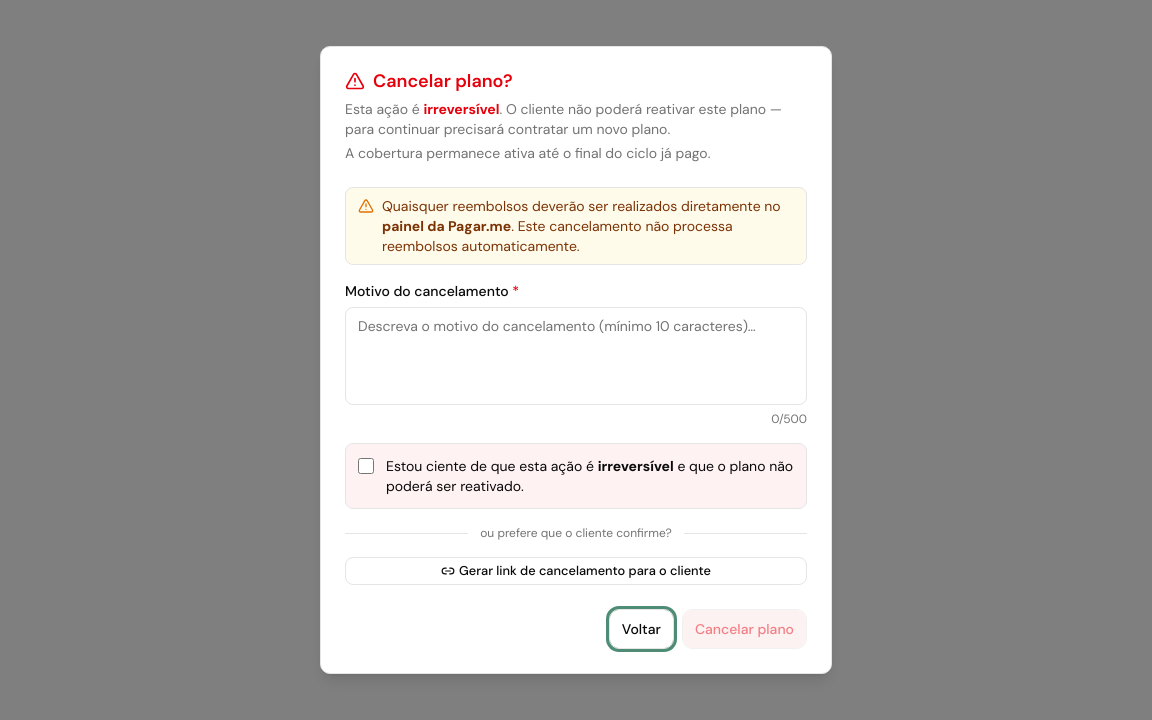
Test: CancelPlanDialog — confirm button gating › should enable confirm button when reason >= 10 chars AND checkbox is checked
In the text box: coordinates (576, 356) [345,307,807,405], type "Motivo com mais de dez caracteres."
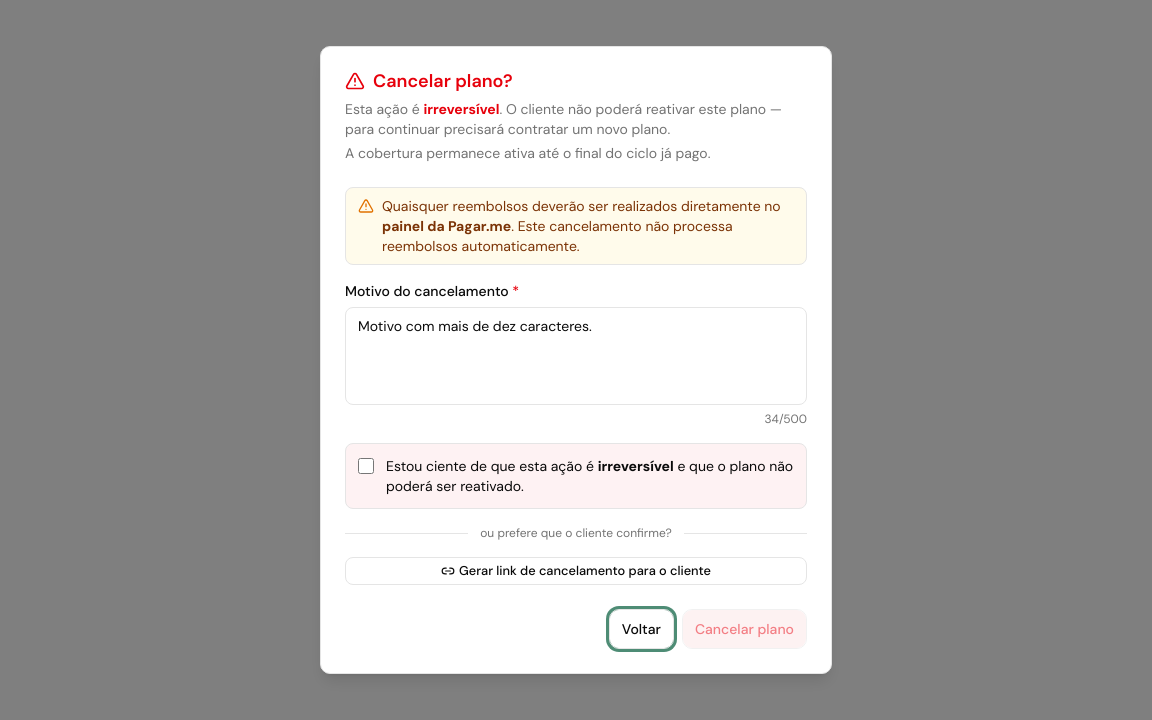
Click the checkbox: coordinates (366, 466) [358,458,374,474]
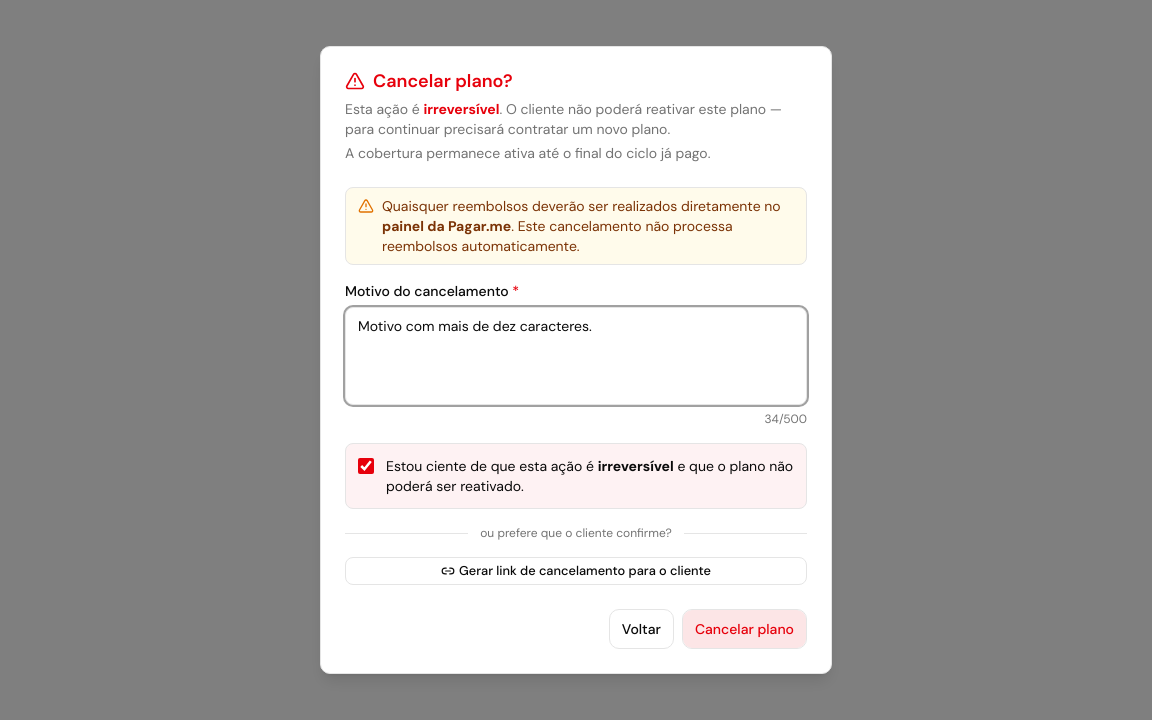
Expected: the button "Cancelar plano" is enabled, [682,609,807,649]
